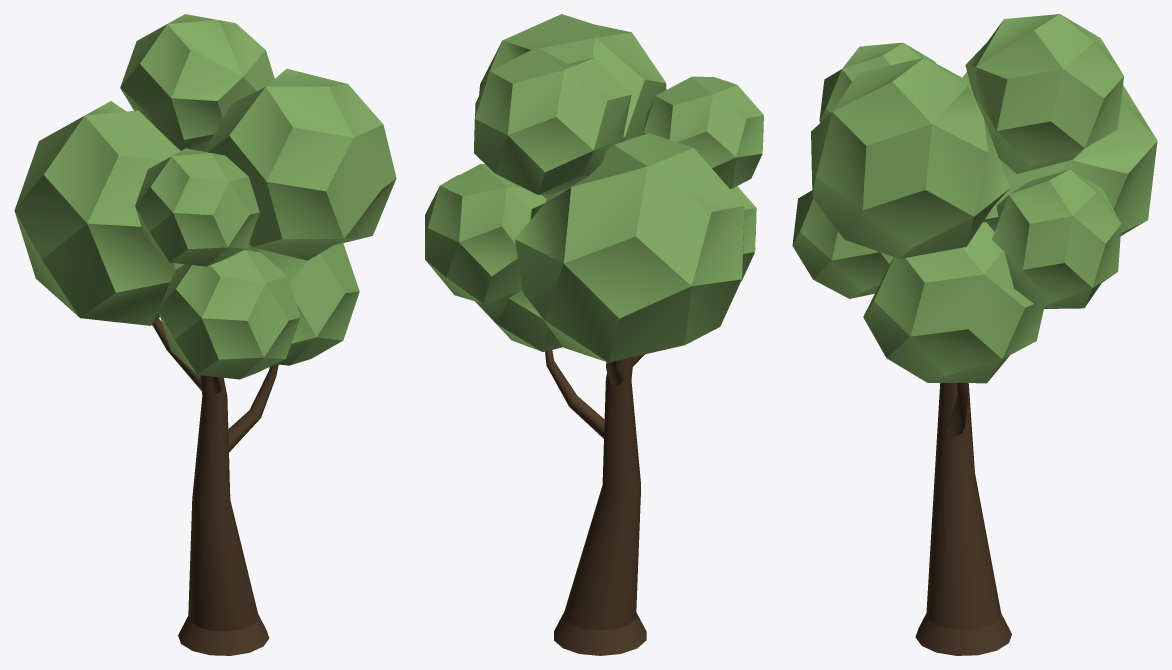
Rendered from Tree03.fbx.
3 views of the same model, side by side, from view 1: azimuth 30°, elevation 25°; view 2: azimuth 150°, elevation 25°; view 3: azimuth 270°, elevation 25° (orthographic). The views are drawn at different scales.
Visible parts, largest first — view 1: pPlatonic20, pCylinder13; view 2: pPlatonic20, pCylinder13; view 3: pPlatonic20, pCylinder13.
Boxes of the visible parts, box(x1,y1,x2,y2) form: pPlatonic20: box(14, 14, 396, 379); pCylinder13: box(152, 318, 278, 655); pPlatonic20: box(425, 14, 763, 362); pCylinder13: box(545, 350, 646, 655); pPlatonic20: box(792, 14, 1157, 383); pCylinder13: box(915, 383, 1011, 655).
Bounding box in the file's own units: 1.58 × 3.02 × 1.61.
